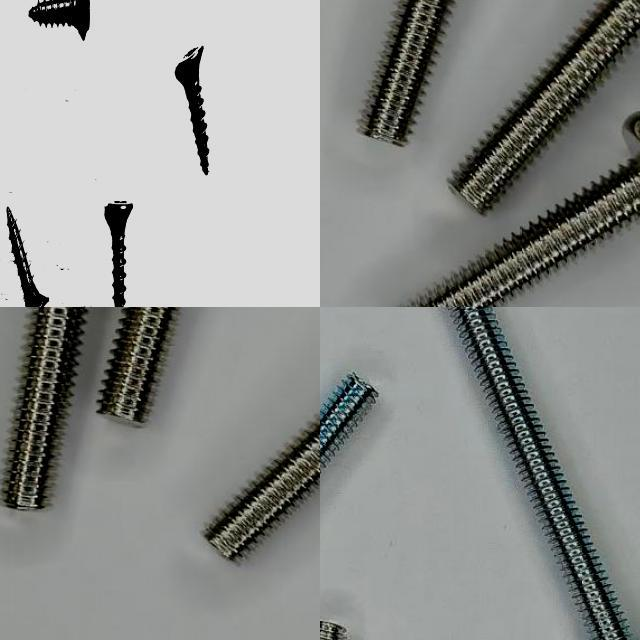Screw: (450, 307, 636, 640), (408, 112, 640, 307), (451, 0, 640, 212), (1, 307, 88, 509), (1, 307, 87, 510), (205, 416, 320, 559), (360, 0, 455, 145), (98, 307, 179, 424), (176, 44, 210, 173), (7, 206, 49, 307), (105, 199, 133, 307), (29, 0, 90, 38)
